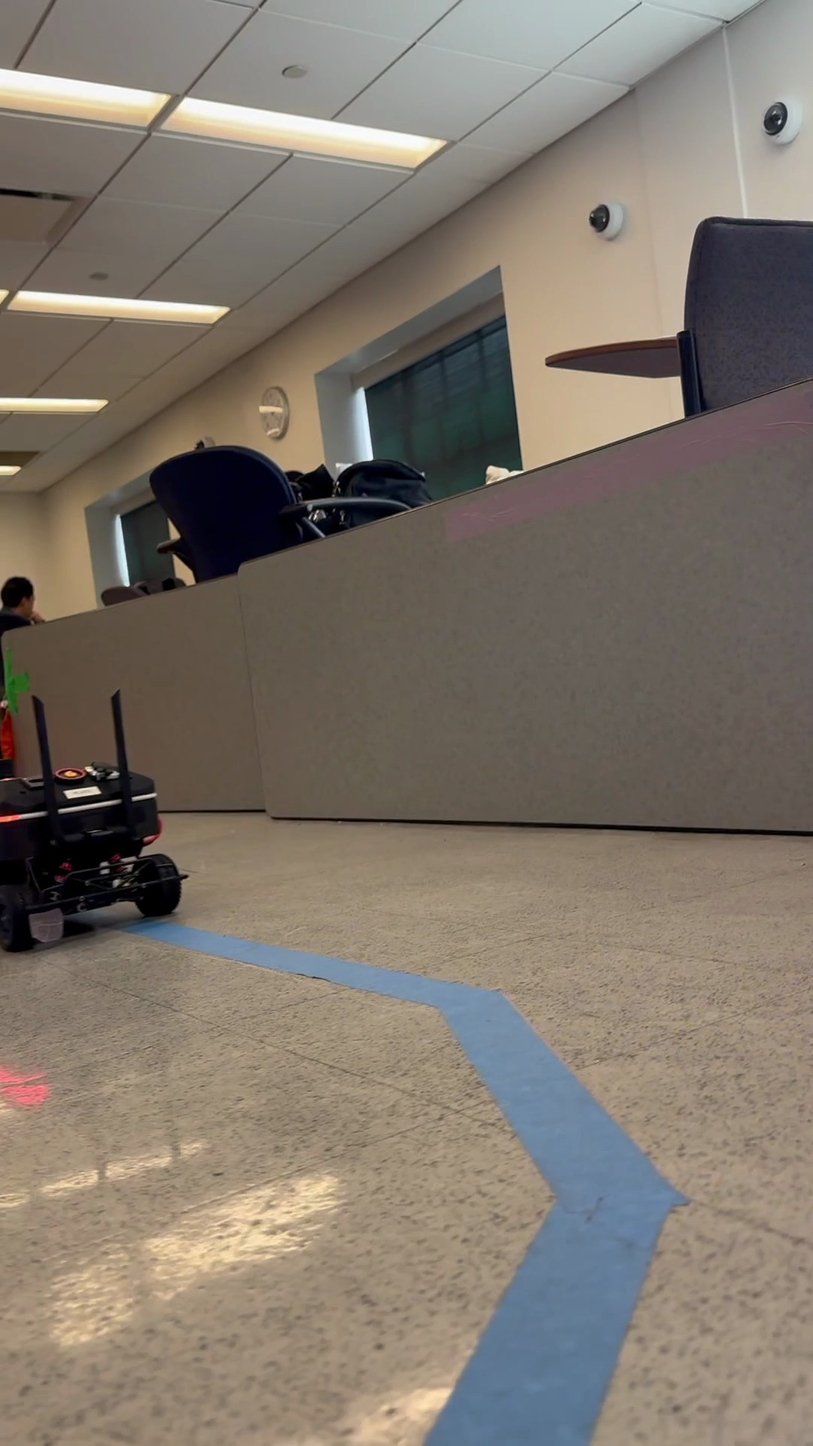racecar: (3, 692, 187, 953)
